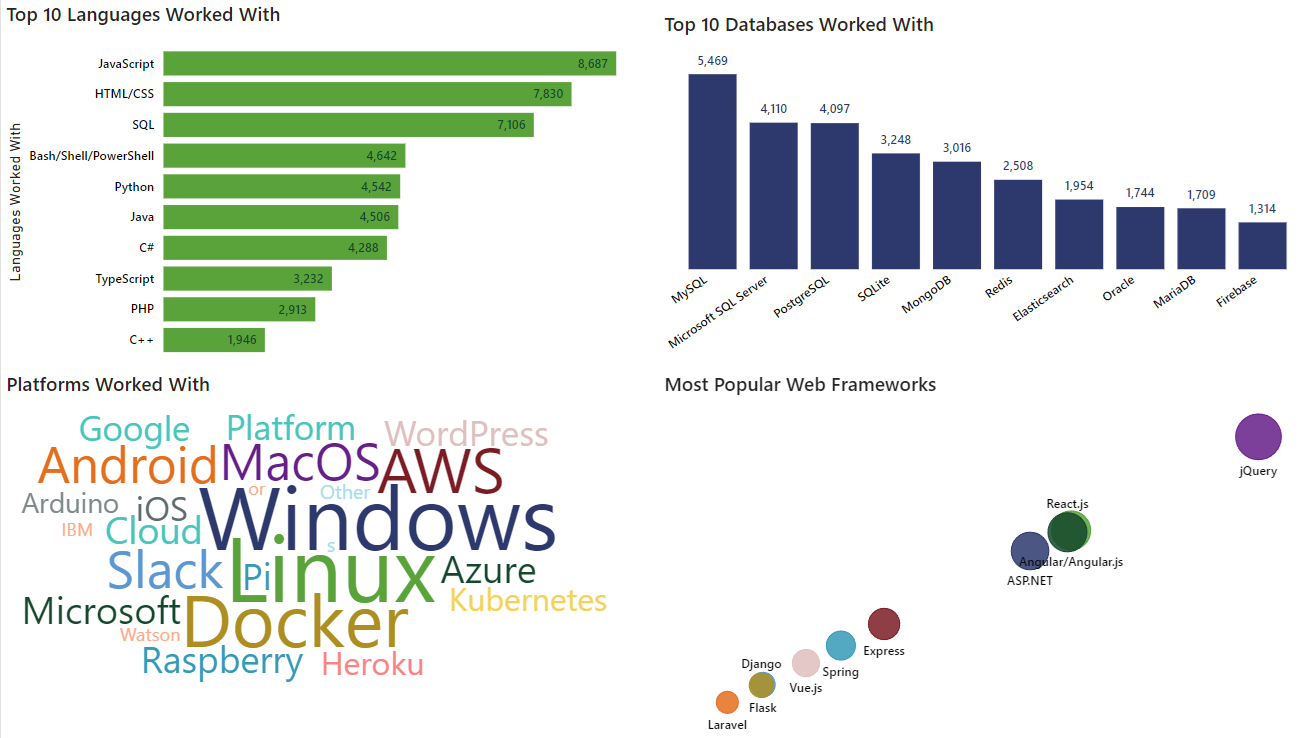

What the dashboard file says about the page in this screenshot:
{"tool":"powerbi","page":{"name":"Current Technologies","canvas":[1280,720],"ordinal":0},"visuals":[{"type":"barChart","title":"Top 10 Languages Worked With","fields":{"Y":["CountNonNull(m5_survey_data_technologies_normalised.Respondent)"],"Category":["m5_survey_data_technologies_normalised.LanguageWorkedWith"]},"box":[0,0,640,359.9],"z":0},{"type":"columnChart","title":"Top 10 Databases Worked With","fields":{"Y":["CountNonNull(m5_survey_data_technologies_normalised.Respondent)"],"Category":["m5_survey_data_technologies_normalised.DatabaseWorkedWith"]},"box":[640,9.7,640,350.2],"z":1000},{"type":"WordCloud1447959067750","title":"Platforms Worked With","fields":{"Category":["m5_survey_data_technologies_normalised.PlatformWorkedWith"],"Values":["CountNonNull(m5_survey_data_technologies_normalised.Respondent)"]},"box":[0,359.9,640,359.9],"z":2000},{"type":"scatterChart","title":"Most Popular Web Frameworks","fields":{"X":["CountNonNull(m5_survey_data_technologies_normalised.Respondent)"],"Category":["m5_survey_data_technologies_normalised.WebFrameWorkedWith"],"Y":["CountNonNull(m5_survey_data_technologies_normalised.Respondent)"],"Series":["m5_survey_data_technologies_normalised.WebFrameWorkedWith"],"Size":["CountNonNull(m5_survey_data_technologies_normalised.Respondent)"]},"box":[640,360,640,360],"z":3000}]}

Visuals, with their boxes in screenshot pixels (x1, y1, x2, y2), scaled from the page's 1280x720 canvas onto the 1304x738 screenshot:
"Top 10 Languages Worked With" barChart: [0,0,652,369]
"Top 10 Databases Worked With" columnChart: [652,10,1303,369]
"Platforms Worked With" WordCloud1447959067750: [0,369,652,737]
"Most Popular Web Frameworks" scatterChart: [652,369,1303,737]
